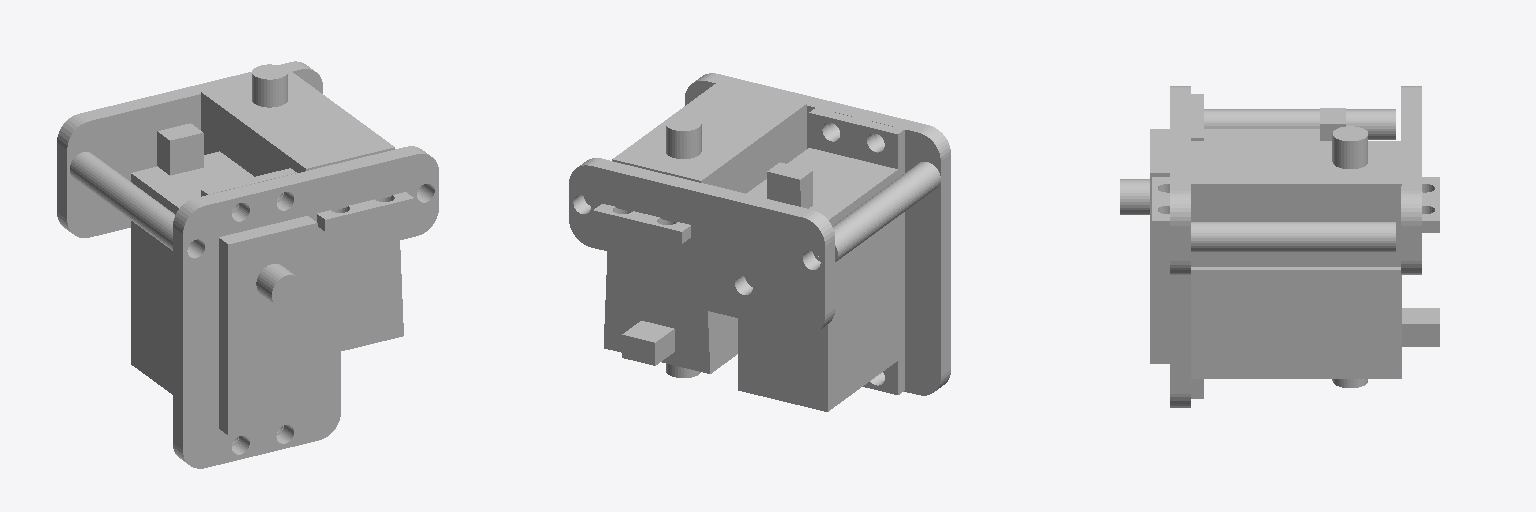
The model's file is shoulder_right.obj.
The picture shows the model from 3 angles: view 1: azimuth 30°, elevation 25°; view 2: azimuth 150°, elevation 25°; view 3: azimuth 270°, elevation 25°; orthographic projection.
Parts seen in each view (by area): view 1: shoulder_right; view 2: shoulder_right; view 3: shoulder_right.
Part boxes in pixels (x1,y1,x2,y2): shoulder_right: (57, 61, 438, 468); shoulder_right: (569, 73, 950, 411); shoulder_right: (1120, 86, 1439, 407).
Bounding box in the file's own units: 5.75 × 6.27 × 6.24.